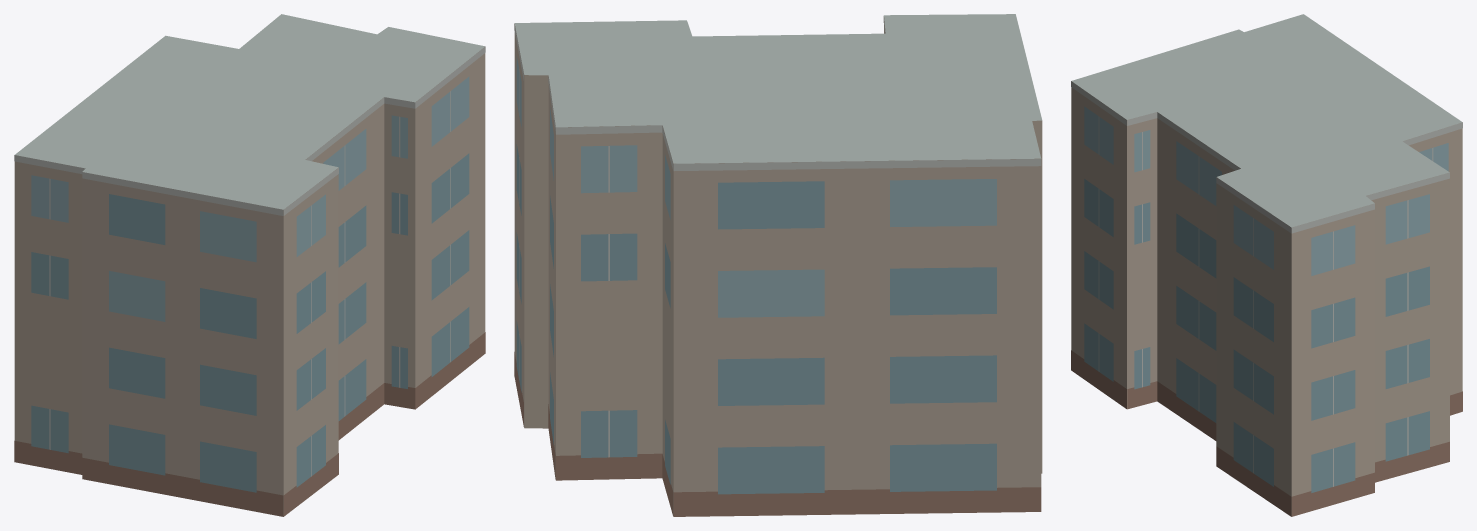
File: survey-upis-32750183.glb
3 views of the same model, side by side, from view 1: azimuth 30°, elevation 25°; view 2: azimuth 150°, elevation 25°; view 3: azimuth 270°, elevation 25° (orthographic). The views are drawn at different scales.
Parts seen in each view (by area): view 1: survey-upis-32750183.tmp; view 2: survey-upis-32750183.tmp; view 3: survey-upis-32750183.tmp.
Boxes of the visible parts, <box> form: survey-upis-32750183.tmp: <box>14,14,485,516</box>; survey-upis-32750183.tmp: <box>514,14,1042,516</box>; survey-upis-32750183.tmp: <box>1071,14,1462,516</box>.
Size of the model in its own units: 18.37 by 11.6 by 14.24.
